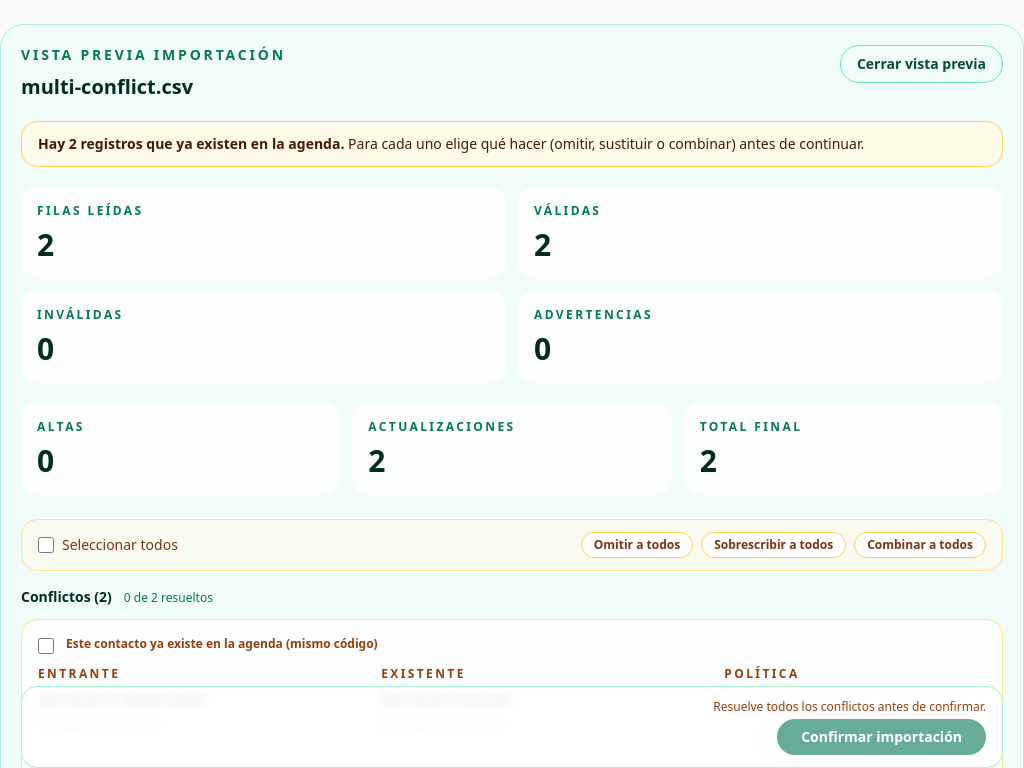
CsvImportPreviewPanel › conflict multi-select and bulk-apply › bulk-apply deselects all after applying
Click the checkbox labelled "Seleccionar todos". click: (46,545)
box: [38, 537, 54, 553]
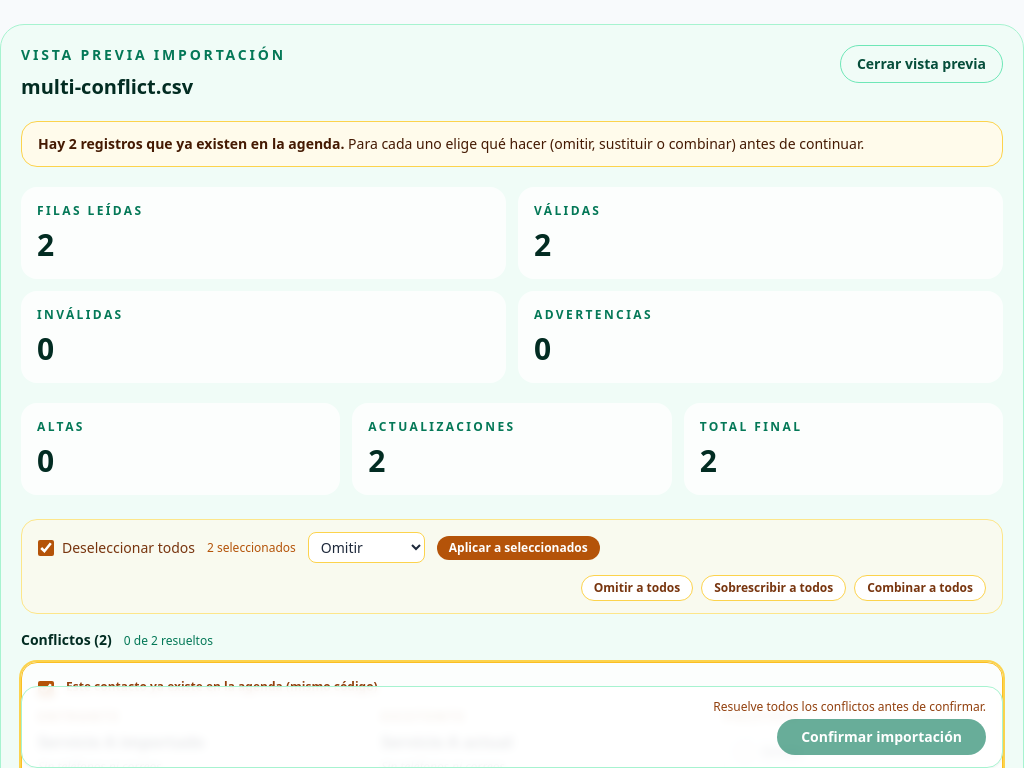
Click the button "Aplicar a seleccionados". click: (518,548)
box: [437, 536, 600, 560]
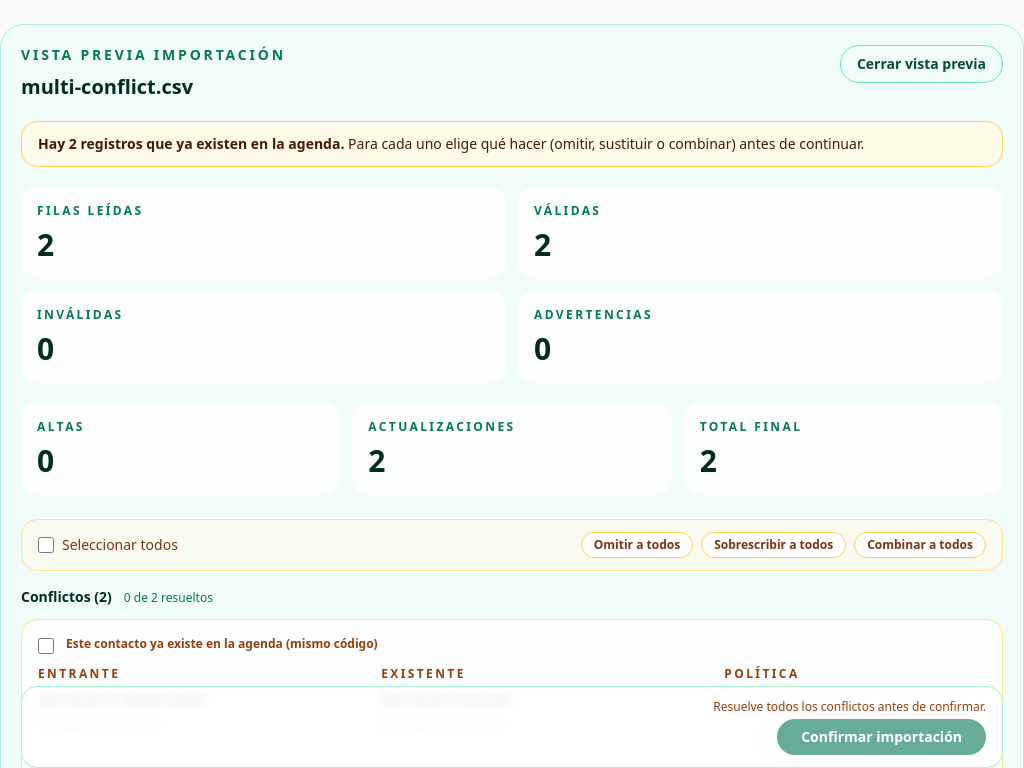
Check: the button "Aplicar a seleccionados" is gone
